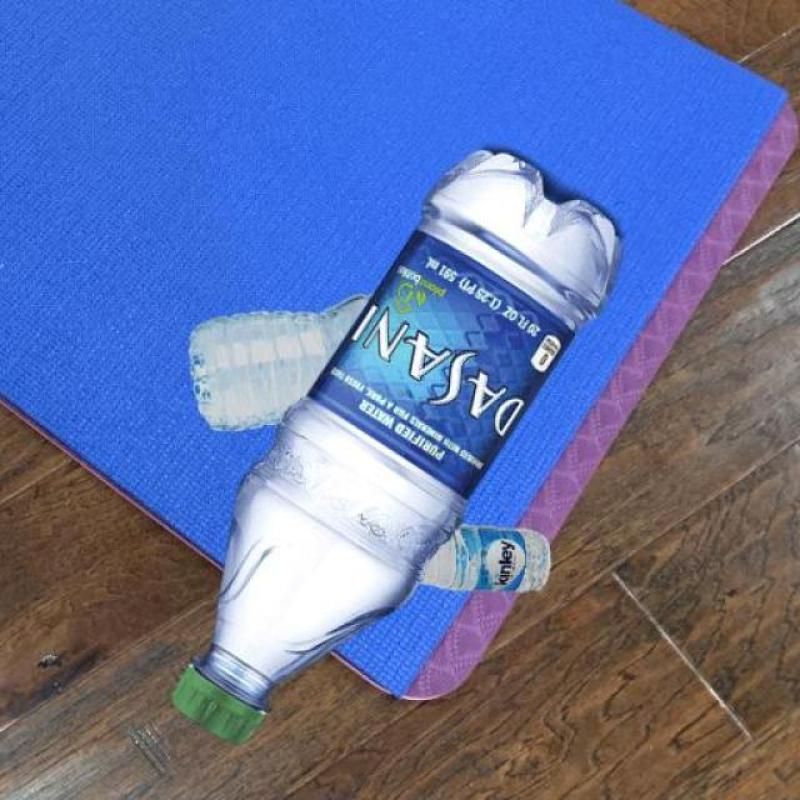botella: (167, 145, 625, 749), (188, 294, 382, 434), (420, 520, 552, 594)
